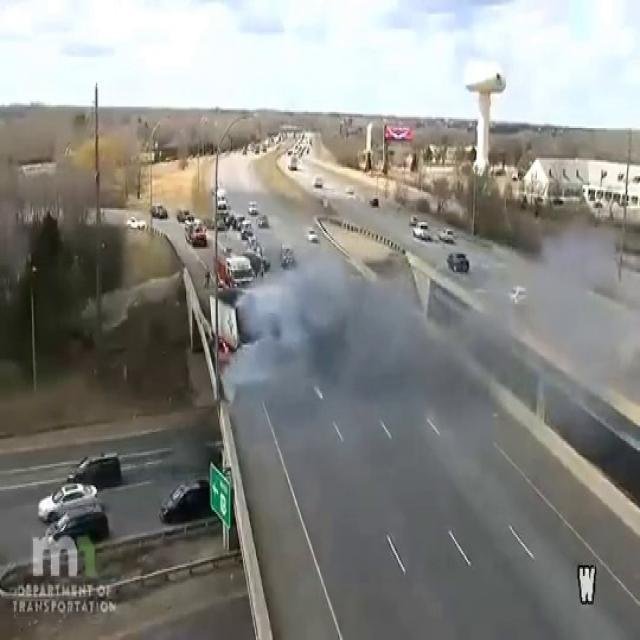Smoke: (240, 196, 430, 384)
